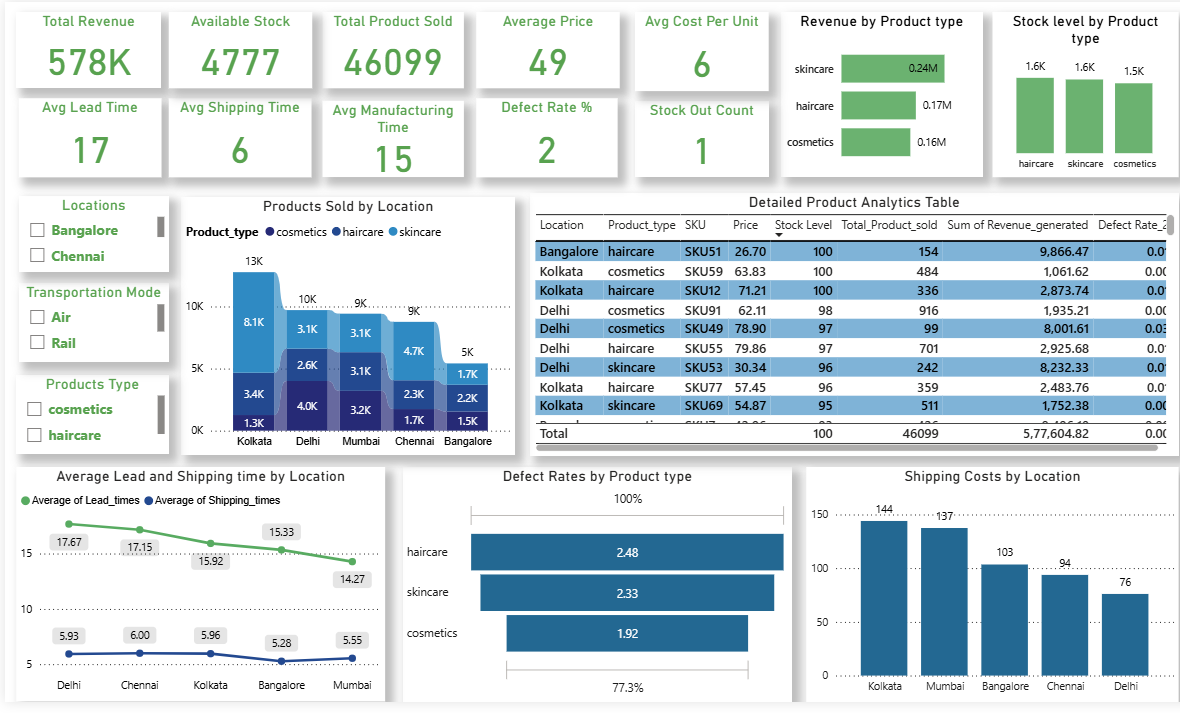

This screenshot's page, from the dashboard's own definition file:
{"tool":"powerbi","page":{"name":"Page 1","canvas":[1370,800],"ordinal":0},"visuals":[{"type":"card","title":"Total Revenue","fields":{"Values":["Sum(cleaned_dataset csv.Revenue_generated)"]},"box":[12.9,11.4,165.7,87.1],"z":0},{"type":"card","title":"Total Product Sold","fields":{"Values":["cleaned_dataset csv.Total_Product_sold"]},"box":[362.9,11.4,161.4,87.1],"z":1000},{"type":"card","title":"Average Price","fields":{"Values":["cleaned_dataset csv.Average_price"]},"box":[538.6,11.4,164.3,87.1],"z":2000},{"type":"card","title":"Avg Lead Time","fields":{"Values":["cleaned_dataset csv.Average_Lead_Time"]},"box":[15.7,110,162.9,90],"z":3000},{"type":"card","title":"Avg Shipping Time","fields":{"Values":["cleaned_dataset csv.Average_shipping_time"]},"box":[187.1,110,162.9,90],"z":4000},{"type":"card","title":"Avg Cost Per Unit","fields":{"Values":["cleaned_dataset csv.Average_cost"]},"box":[720,11.4,152.9,90],"z":5000},{"type":"card","title":"Avg Manufacturing Time","fields":{"Values":["cleaned_dataset csv.Average_Manufacturing_time"]},"box":[362.9,112.9,161.4,87.1],"z":6000},{"type":"card","title":"Defect Rate %","fields":{"Values":["cleaned_dataset csv.Defect Rate %"]},"box":[538.6,110,161.4,90],"z":7000},{"type":"slicer","title":"Locations","fields":{"Values":["cleaned_dataset csv.Location"]},"box":[15.7,221.4,171.4,87.1],"z":8000},{"type":"slicer","title":"Transportation Mode","fields":{"Values":["cleaned_dataset csv.Transportation_modes"]},"box":[15.7,321.4,171.4,90],"z":9000},{"type":"card","title":"Available Stock","fields":{"Values":["cleaned_dataset csv.Available Stock"]},"box":[187.1,11.4,164.3,87.1],"z":10000},{"type":"slicer","title":"Products Type","fields":{"Values":["cleaned_dataset csv.Product_type"]},"box":[12.9,425.7,174.3,91.4],"z":11000},{"type":"card","title":"Stock Out Count","fields":{"Values":["cleaned_dataset csv.Stock Out Counts"]},"box":[720,112.9,152.9,87.1],"z":12000},{"type":"clusteredBarChart","title":" Revenue  by Product type","fields":{"Y":["Sum(cleaned_dataset csv.Revenue_generated)"],"Category":["cleaned_dataset csv.Product_type"]},"box":[887.1,11.4,230,188.6],"z":13000},{"type":"columnChart","title":"Products Sold by Location","fields":{"Y":["Sum(cleaned_dataset csv.Number_of_products_sold)"],"Category":["cleaned_dataset csv.Location"],"Series":["cleaned_dataset csv.Product_type"]},"box":[201.7,223.3,381.7,295],"z":14000},{"type":"clusteredColumnChart","title":"Stock level by Product type","fields":{"Category":["cleaned_dataset csv.Product_type"],"Y":["Sum(cleaned_dataset csv.Stock_levels)"]},"box":[1128.6,11.4,212.9,188.6],"z":15000},{"type":"lineChart","title":"Average Lead and Shipping time  by  Location","fields":{"Y":["Avg(cleaned_dataset csv.Lead_times)","Avg(cleaned_dataset csv.Shipping_times)"],"Category":["cleaned_dataset csv.Location"]},"box":[13.3,531.7,421.7,268.3],"z":16000},{"type":"tableEx","title":"Detailed Product Analytics Table","fields":{"Values":["cleaned_dataset csv.Location","cleaned_dataset csv.Product_type","cleaned_dataset csv.SKU","Sum(cleaned_dataset csv.Price)","Sum(cleaned_dataset csv.Stock_levels)","cleaned_dataset csv.Total_Product_sold","Sum(cleaned_dataset csv.Revenue_generated)"]},"box":[600,218.6,741.4,300],"z":17000},{"type":"funnel","title":"Defect Rates by Product type","fields":{"Category":["cleaned_dataset csv.Product_type"],"Y":["Sum(cleaned_dataset csv.Defect_rates)"]},"box":[454.3,531.4,445.7,268.6],"z":18000},{"type":"clusteredColumnChart","title":"Shipping Costs by Location","fields":{"Category":["cleaned_dataset csv.Location"],"Y":["Sum(cleaned_dataset csv.Shipping_costs)"]},"box":[915.7,531.4,425.7,268.6],"z":19000}]}

Visuals, with their boxes on the page's 1370x800 design canvas (x1, y1, x2, y2). These are canvas units, not pixel positions in the 1180x713 screenshot, which may show the page scaled, cropped or inside an application window:
"Total Revenue" card: x1=13 y1=11 x2=179 y2=98
"Total Product Sold" card: x1=363 y1=11 x2=524 y2=98
"Average Price" card: x1=539 y1=11 x2=703 y2=98
"Avg Lead Time" card: x1=16 y1=110 x2=179 y2=200
"Avg Shipping Time" card: x1=187 y1=110 x2=350 y2=200
"Avg Cost Per Unit" card: x1=720 y1=11 x2=873 y2=101
"Avg Manufacturing Time" card: x1=363 y1=113 x2=524 y2=200
"Defect Rate %" card: x1=539 y1=110 x2=700 y2=200
"Locations" slicer: x1=16 y1=221 x2=187 y2=308
"Transportation Mode" slicer: x1=16 y1=321 x2=187 y2=411
"Available Stock" card: x1=187 y1=11 x2=351 y2=98
"Products Type" slicer: x1=13 y1=426 x2=187 y2=517
"Stock Out Count" card: x1=720 y1=113 x2=873 y2=200
" Revenue  by Product type" clusteredBarChart: x1=887 y1=11 x2=1117 y2=200
"Products Sold by Location" columnChart: x1=202 y1=223 x2=583 y2=518
"Stock level by Product type" clusteredColumnChart: x1=1129 y1=11 x2=1342 y2=200
"Average Lead and Shipping time  by  Location" lineChart: x1=13 y1=532 x2=435 y2=800
"Detailed Product Analytics Table" tableEx: x1=600 y1=219 x2=1341 y2=519
"Defect Rates by Product type" funnel: x1=454 y1=531 x2=900 y2=800
"Shipping Costs by Location" clusteredColumnChart: x1=916 y1=531 x2=1341 y2=800
